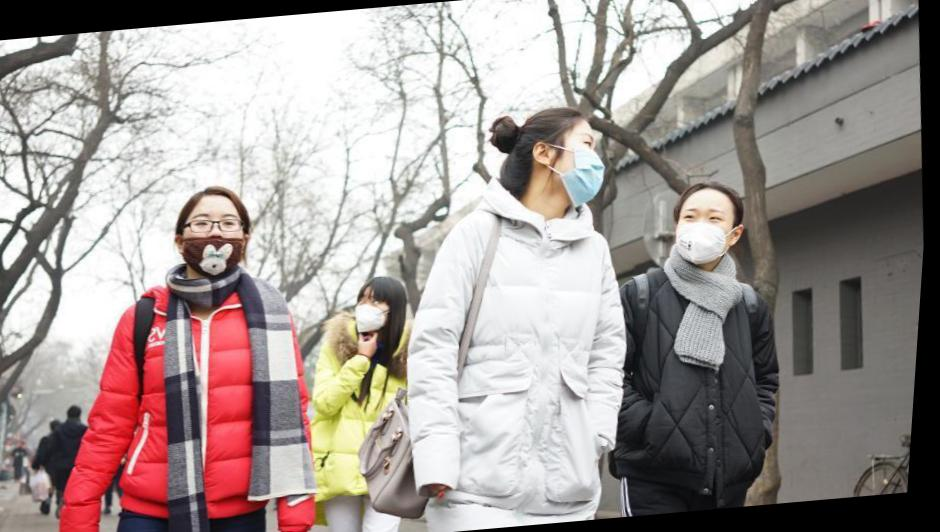OK: (544, 123, 615, 208), (671, 195, 743, 263), (354, 286, 402, 337)
WRONG: (177, 204, 256, 279)
